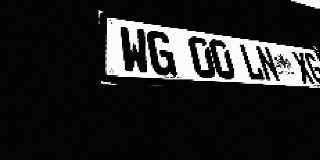0: (187, 36, 217, 79), (208, 39, 237, 80)
G: (146, 30, 177, 76), (303, 52, 320, 84)
L: (238, 43, 266, 81)
N: (254, 45, 281, 82)
W: (119, 26, 151, 75)
X: (290, 51, 316, 84)
